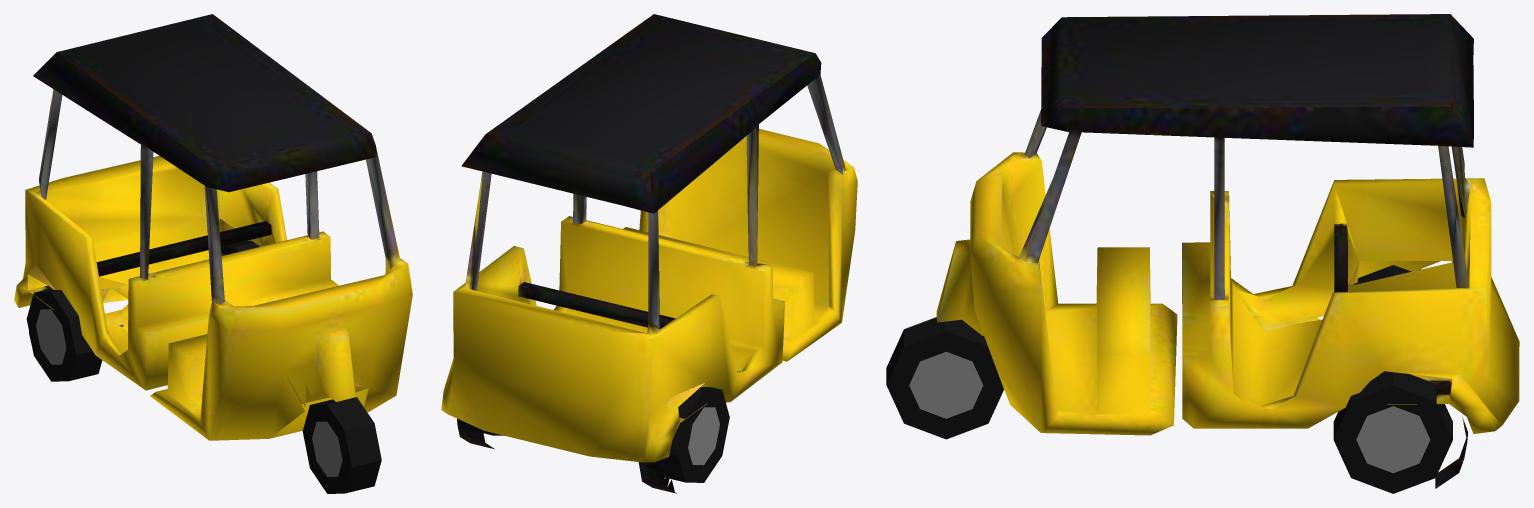
File: keke-far.glb
3 views of the same model, side by side, from view 1: azimuth 30°, elevation 25°; view 2: azimuth 150°, elevation 25°; view 3: azimuth 270°, elevation 25° (orthographic). The views are drawn at different scales.
Parts seen in each view (by area): view 1: keke-far; view 2: keke-far; view 3: keke-far.
Boxes of the visible parts, left/top/right/bottom form: keke-far: left=14, top=14, right=412, bottom=493; keke-far: left=441, top=14, right=857, bottom=493; keke-far: left=886, top=14, right=1519, bottom=493.
Bounding box in the file's own units: 1.51 × 2.05 × 3.18.
Materials: 1 (1 with a texture image).
